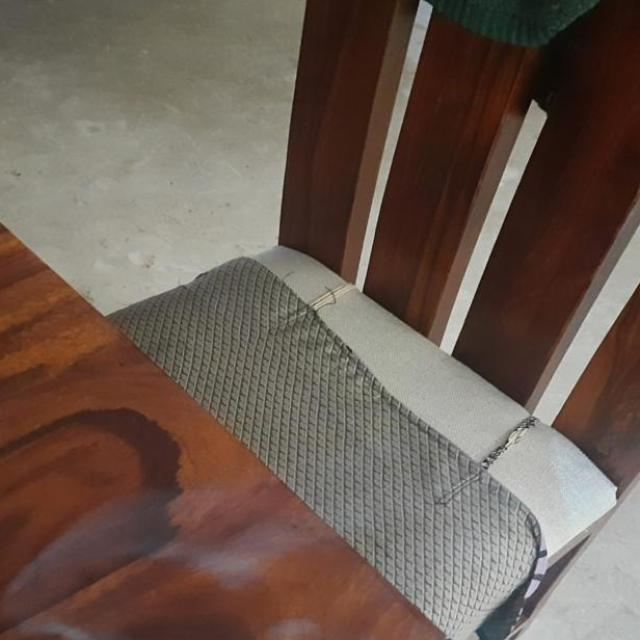fire: (0, 483, 402, 640)
